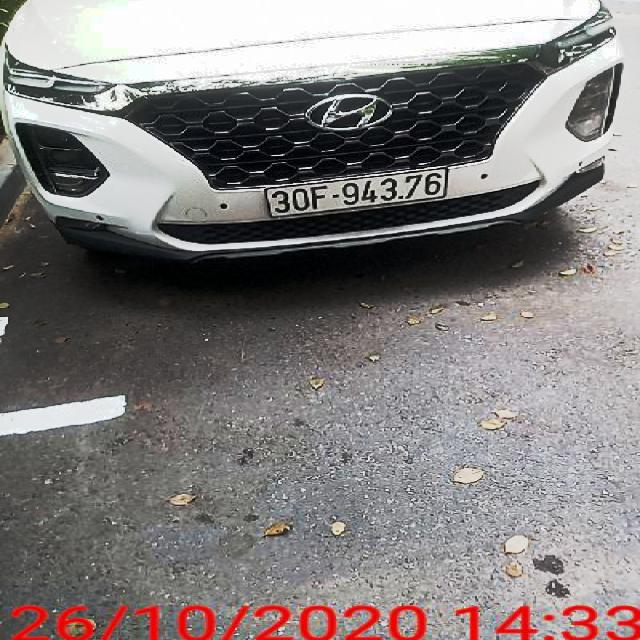license_plate: (269, 170, 451, 220)
